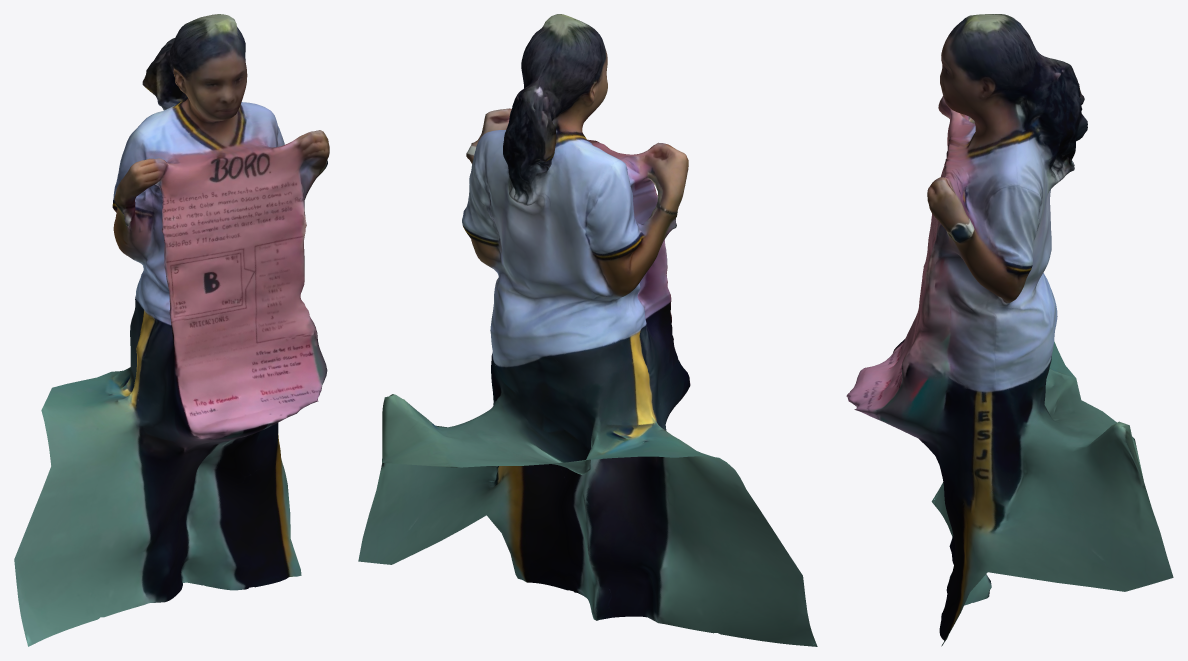
3 renders of one model, left to right at view 1: azimuth 30°, elevation 25°; view 2: azimuth 150°, elevation 25°; view 3: azimuth 270°, elevation 25°, orthographic. The views are drawn at different scales.
Parts seen in each view (by area): view 1: 3DModel; view 2: 3DModel; view 3: 3DModel.
Part boxes in pixels (x1,y1,x2,y2): 3DModel: (14, 14, 329, 646); 3DModel: (358, 14, 817, 646); 3DModel: (846, 14, 1173, 646).
Bounding box in the file's own units: 0.7947 × 1.32 × 0.657.
Materials: 1 (1 with a texture image).
